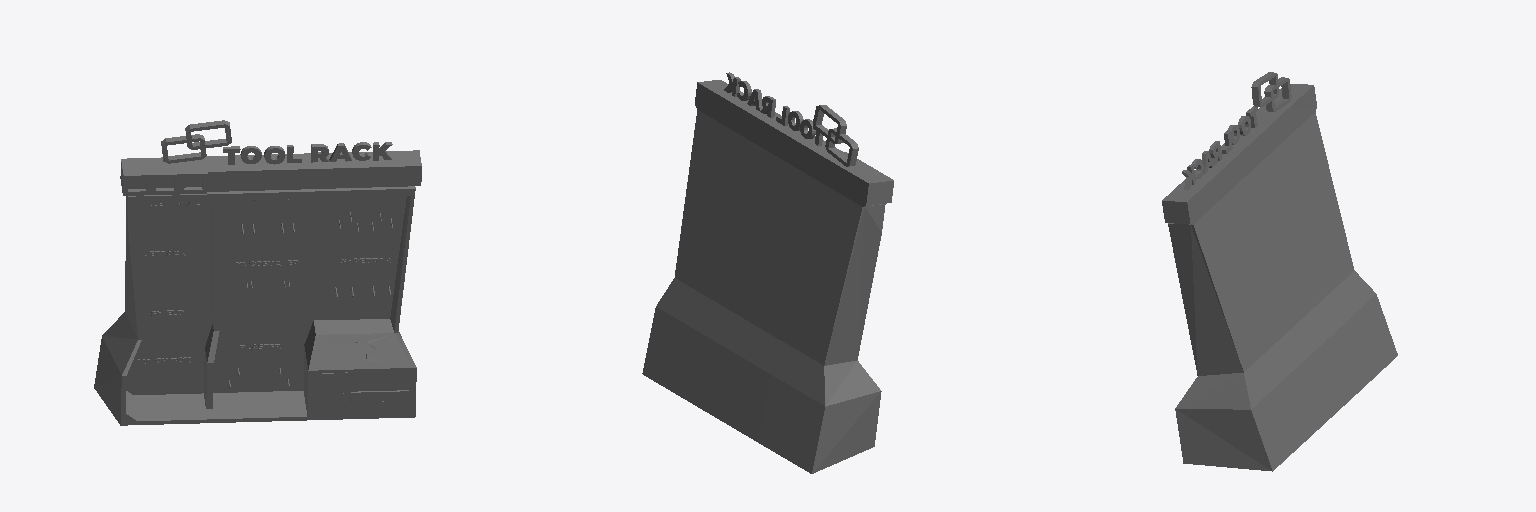
Rendered from ToolRack.obj.
3 renders of one model, left to right at view 1: azimuth 30°, elevation 25°; view 2: azimuth 150°, elevation 25°; view 3: azimuth 270°, elevation 25°, orthographic.
Visible parts, largest first — view 1: ToolRack, Letters; view 2: ToolRack, Letters; view 3: ToolRack, Letters.
Boxes of the visible parts, x1=… form: ToolRack: x1=94, y1=150, x2=421, y2=425; Letters: x1=137, y1=120, x2=392, y2=364; ToolRack: x1=642, y1=80, x2=893, y2=473; Letters: x1=724, y1=72, x2=858, y2=166; ToolRack: x1=1162, y1=84, x2=1397, y2=471; Letters: x1=1182, y1=72, x2=1291, y2=189.
Size of the model in its own units: 511 by 579 by 405.